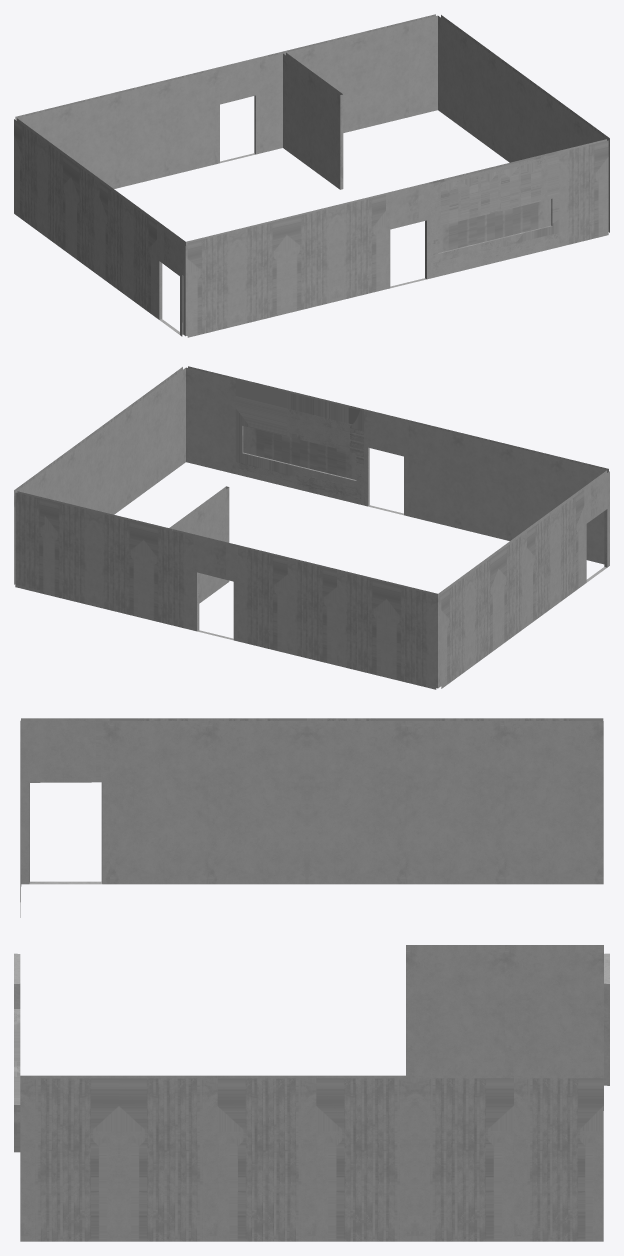
Rendered from main_room_v4_walls_low.fbx.
3 renders of one model, top to bottom at view 1: azimuth 30°, elevation 25°; view 2: azimuth 150°, elevation 25°; view 3: azimuth 270°, elevation 25°, orthographic. The views are drawn at different scales.
Visible parts, largest first — view 1: main_room_v4_window_low; view 2: main_room_v4_window_low; view 3: main_room_v4_window_low.
Boxes of the visible parts, <box> form: main_room_v4_window_low: <box>14,14,609,337</box>; main_room_v4_window_low: <box>14,366,609,689</box>; main_room_v4_window_low: <box>14,718,609,1241</box>.
Bounding box in the file's own units: 1877 × 397 × 1313.
